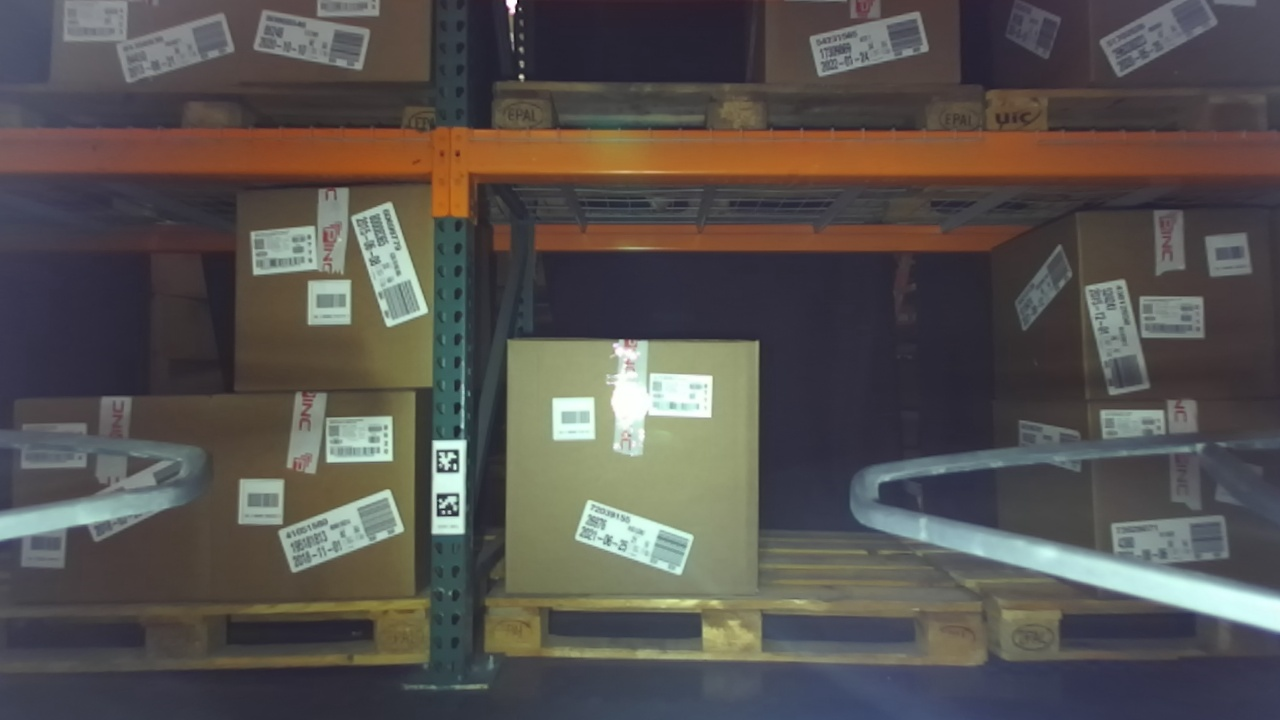box: (490, 324, 784, 626), (193, 369, 443, 615), (209, 166, 450, 413), (1061, 185, 1280, 425), (7, 374, 215, 620), (1066, 387, 1280, 608)
